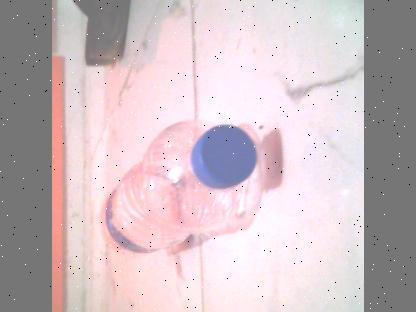Plastic Bottle: (103, 118, 267, 256)
